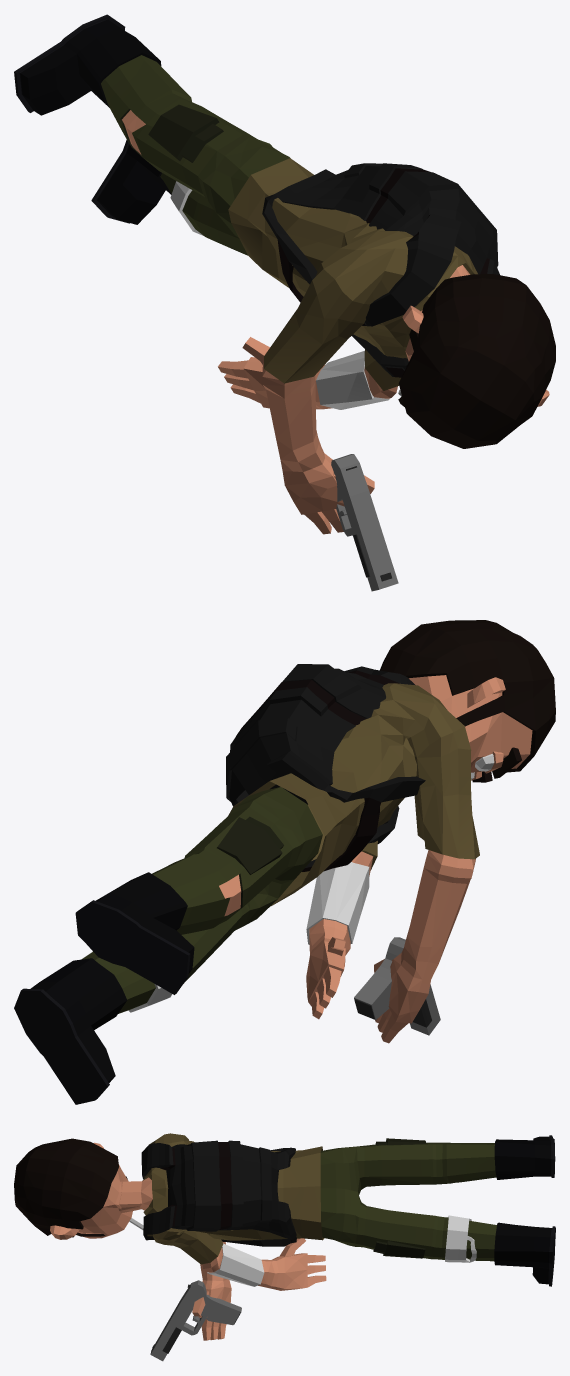
File: frame_0017.obj
3 views of the same model, one above another, from view 1: azimuth 30°, elevation 25°; view 2: azimuth 150°, elevation 25°; view 3: azimuth 270°, elevation 25° (orthographic). The views are drawn at different scales.
Parts seen in each view (by area): view 1: Body, Gun; view 2: Body, Gun; view 3: Body, Gun.
Part boxes in pixels (x1,y1,x2,y2): Body: [14, 14, 555, 534]; Gun: [331, 454, 398, 591]; Body: [14, 620, 555, 1104]; Gun: [354, 937, 440, 1035]; Body: [14, 1133, 555, 1340]; Gun: [150, 1280, 241, 1361].
Size of the model in its own units: 1.3 by 2.03 by 4.15.
